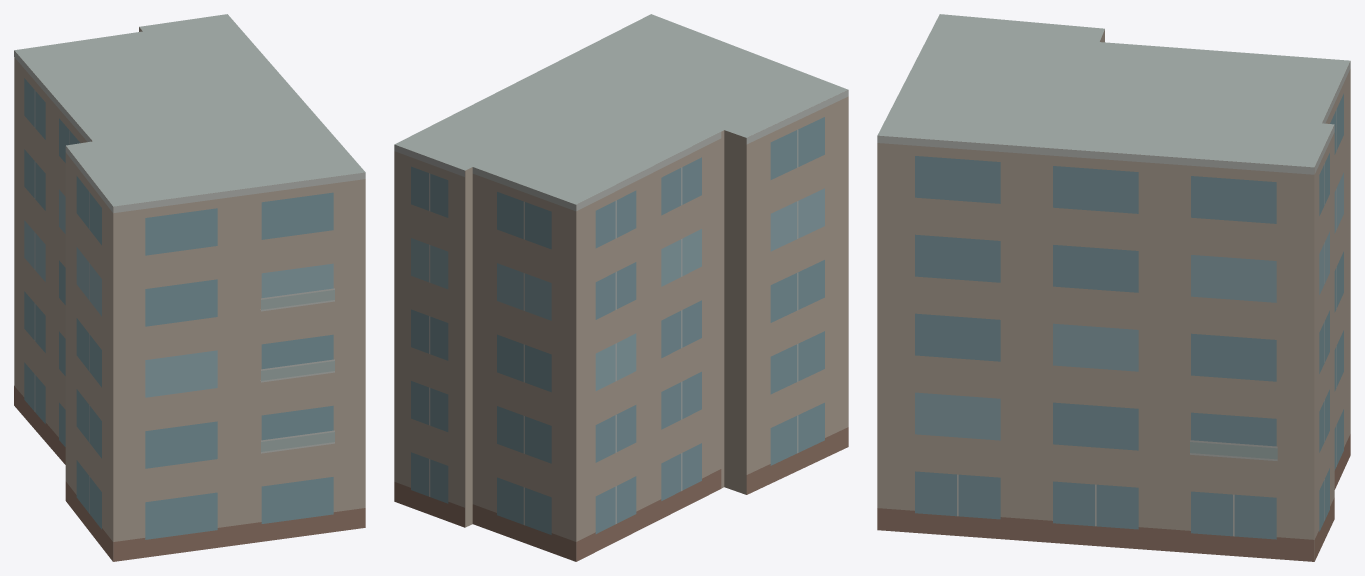
Rendered from survey-upis-32854340.glb.
3 views of the same model, side by side, from view 1: azimuth 30°, elevation 25°; view 2: azimuth 150°, elevation 25°; view 3: azimuth 270°, elevation 25° (orthographic). The views are drawn at different scales.
Parts seen in each view (by area): view 1: survey-upis-32854340.tmp; view 2: survey-upis-32854340.tmp; view 3: survey-upis-32854340.tmp.
Part boxes in pixels (x1,y1,x2,y2): survey-upis-32854340.tmp: [14, 14, 365, 561]; survey-upis-32854340.tmp: [394, 14, 848, 561]; survey-upis-32854340.tmp: [877, 14, 1350, 561].
Bounding box in the file's own units: 10.94 × 13.1 × 14.26.
